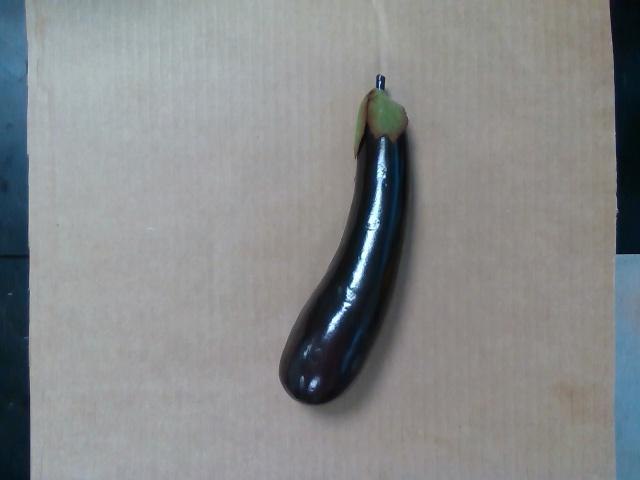eggplant: (278, 74, 409, 405)
